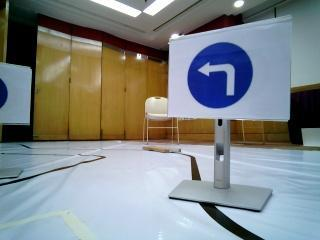left: (162, 39, 292, 116)
